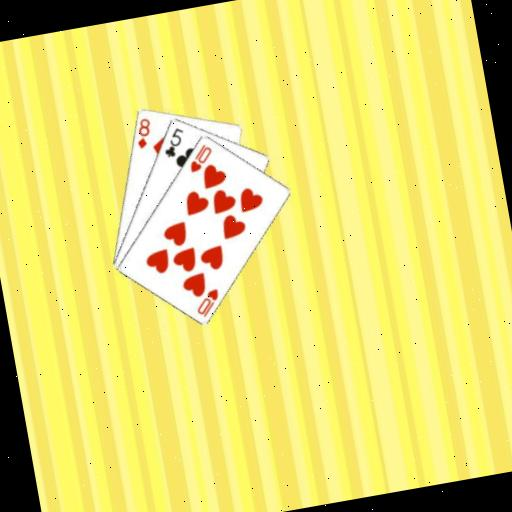10H: (183, 140, 216, 175), (190, 285, 223, 320)
5C: (157, 123, 189, 159)
8D: (129, 113, 155, 151)
